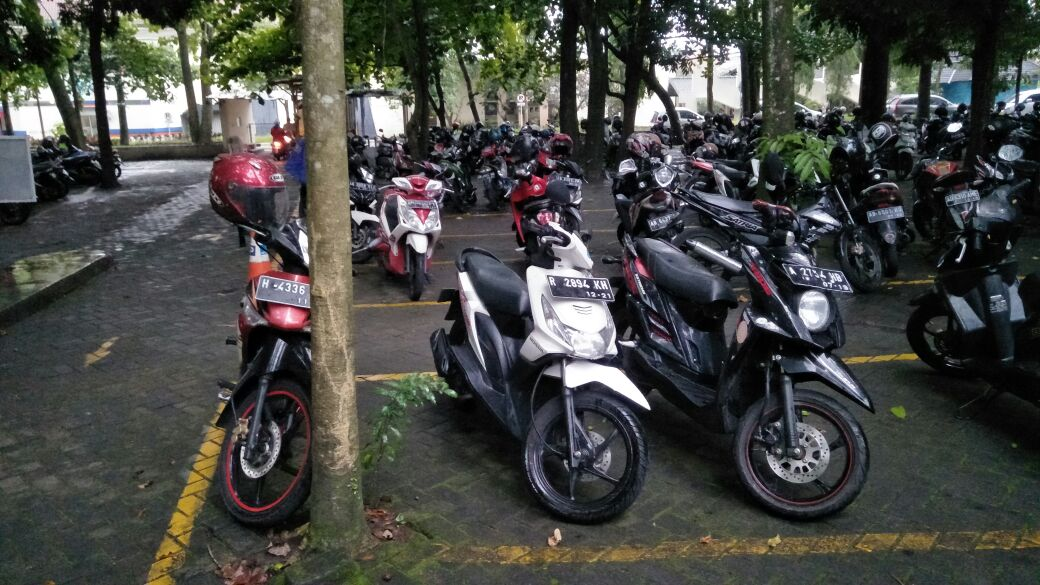plate: (779, 263, 855, 293), (254, 277, 312, 309), (547, 275, 616, 300)
